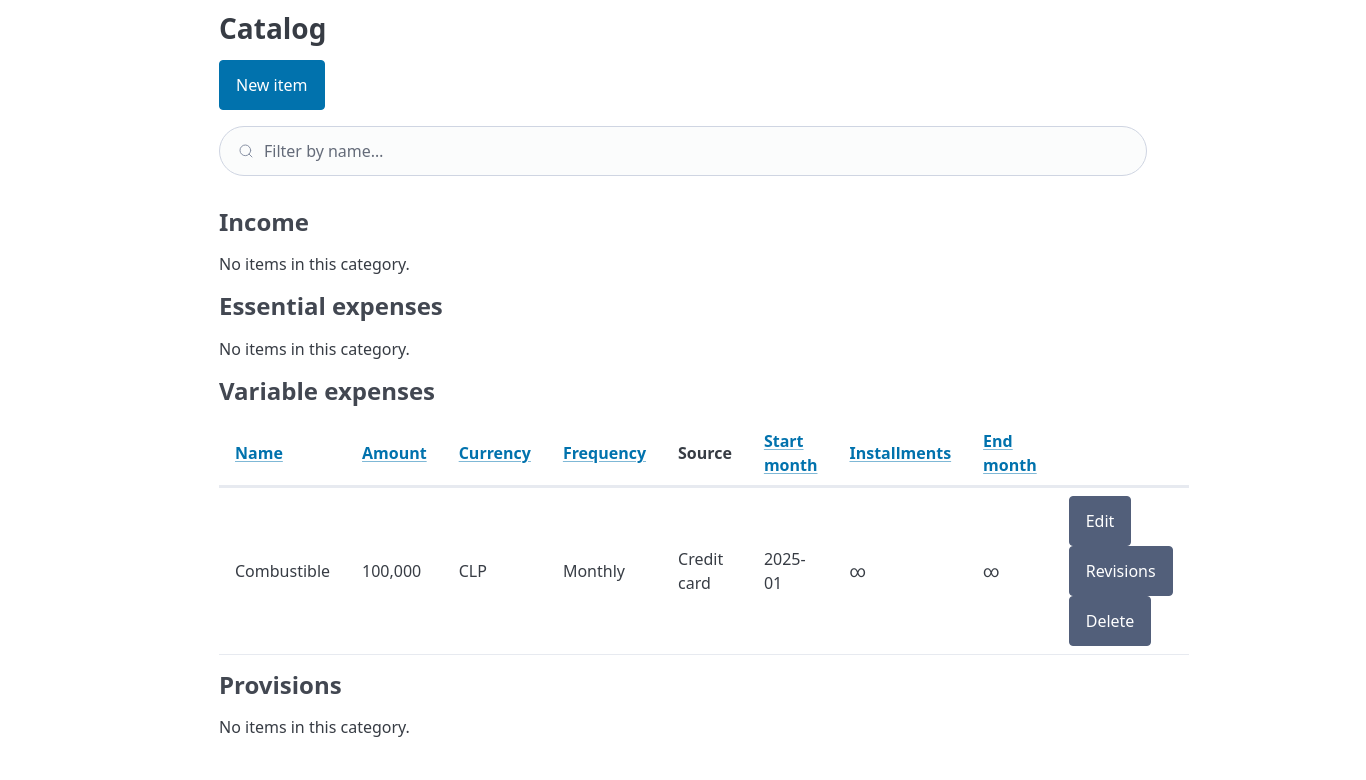
Test: CatalogView › shows sort indicator on active column and removes it when column changes
Click the link "Name" at (259, 453), box [235,442,283,464]
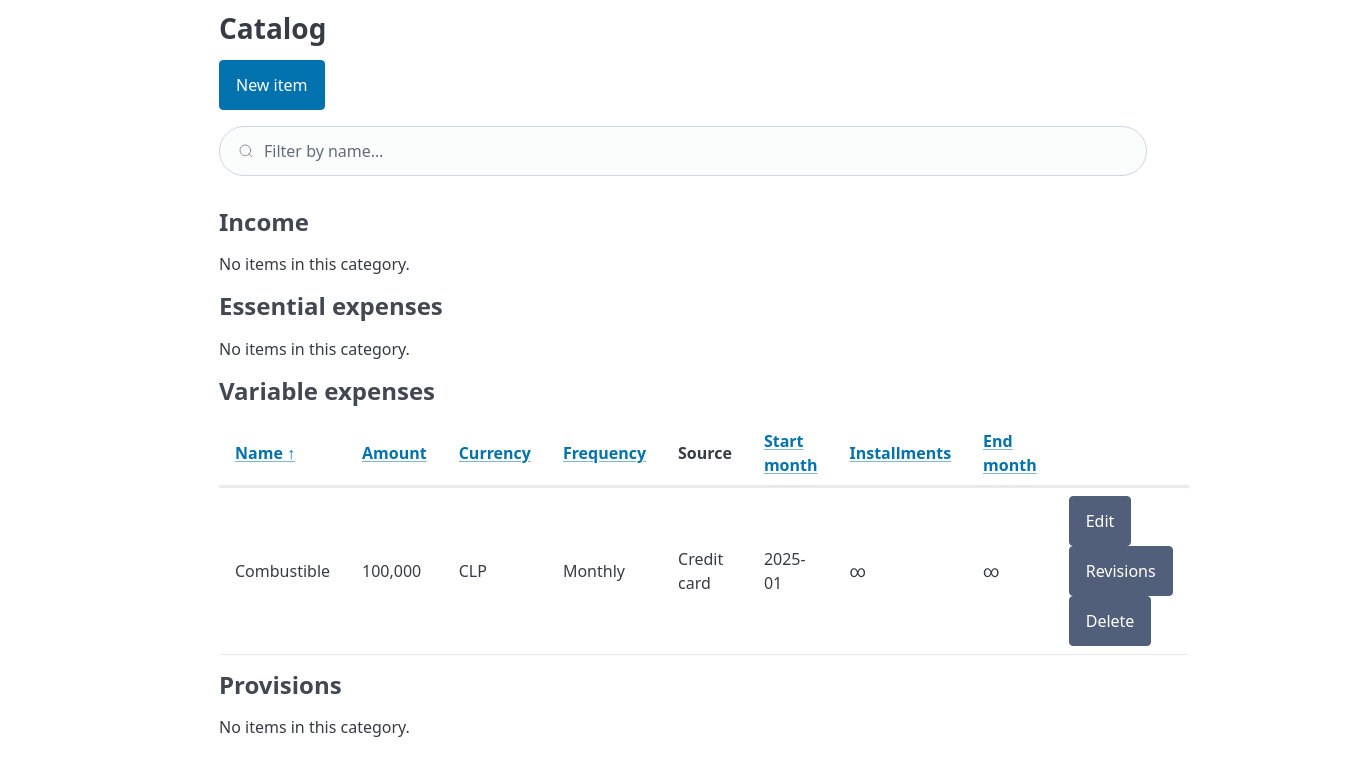
Now the link "Name ↑" is shown
Click the link "Name ↑" at (265, 453), box [235,442,295,464]
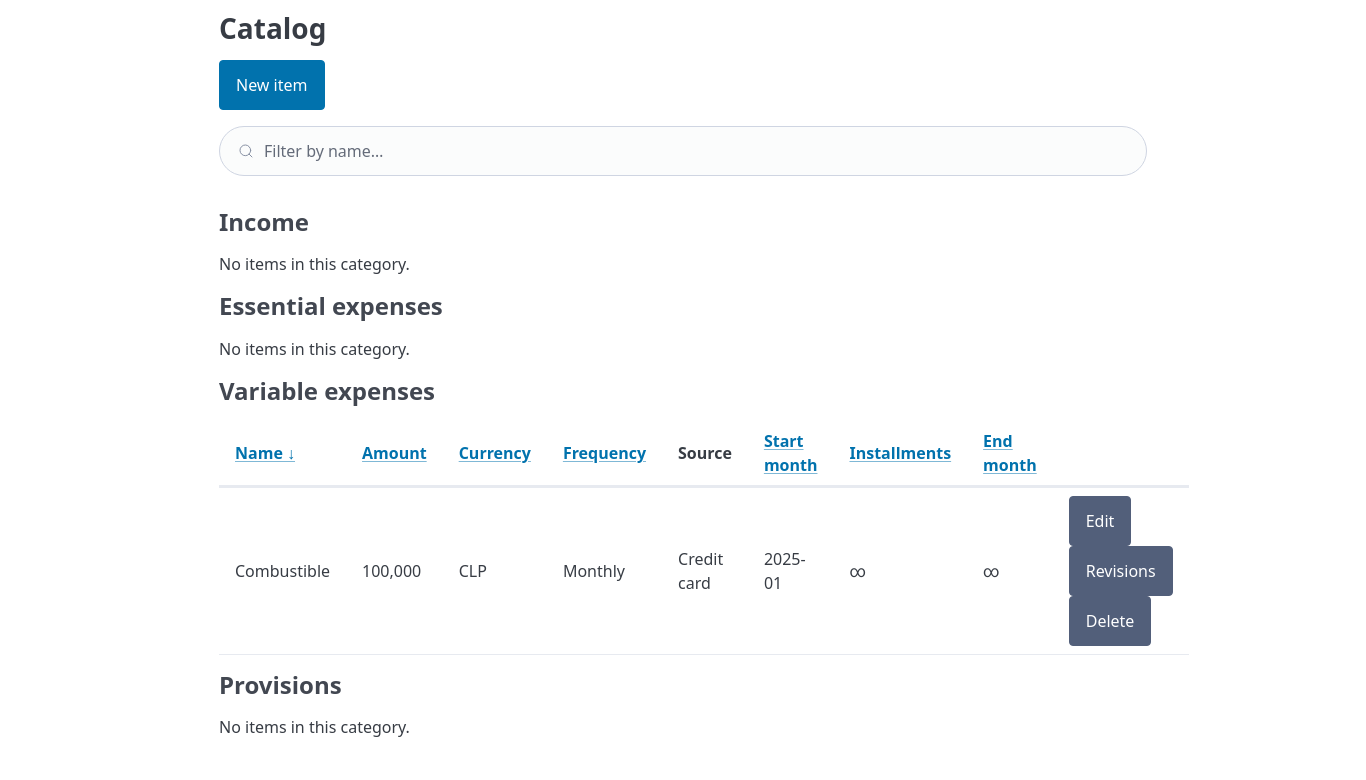
Now the link "Name ↓" is shown, box [235,442,295,464]
